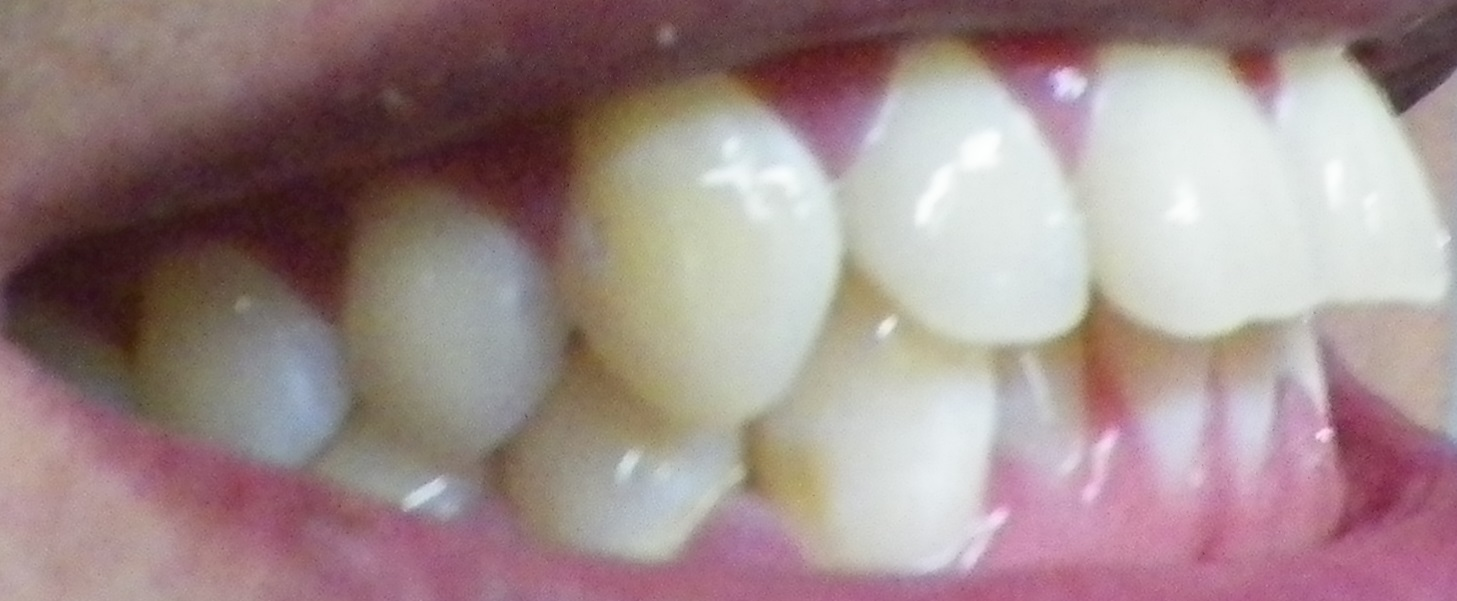boca: (79, 26, 1457, 537)
